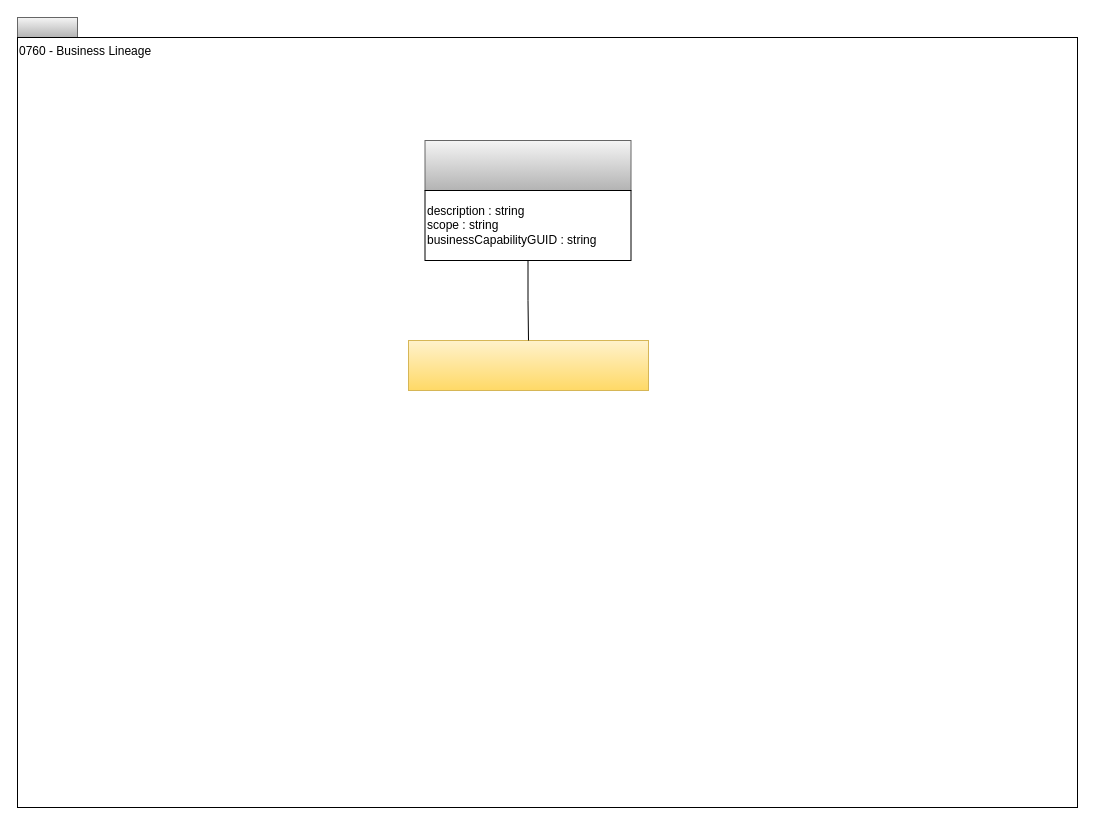
Image size: 1095x825. Some labels were removed from this diagram. Each missing label, with the box of its shape:
«classification» BusinessSignificant: (424, 140, 631, 190)
«entity» Referenceable: (408, 340, 648, 390)
